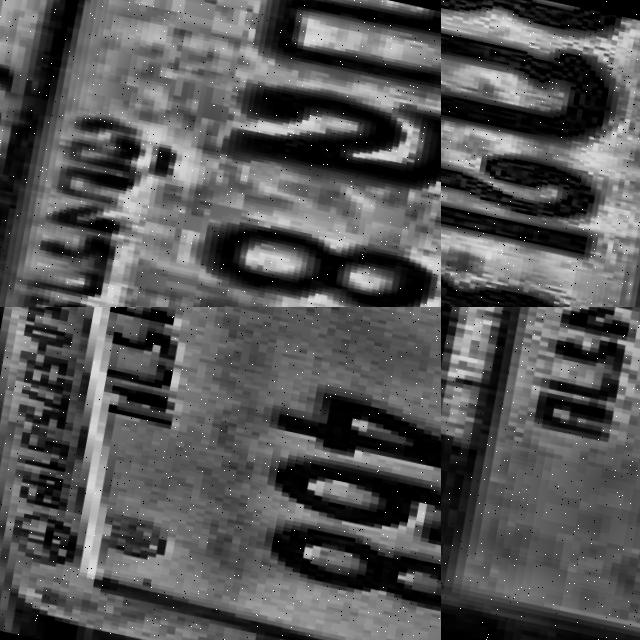license-plate: (0, 307, 441, 640), (0, 0, 441, 307), (441, 307, 640, 640), (441, 0, 640, 307)
